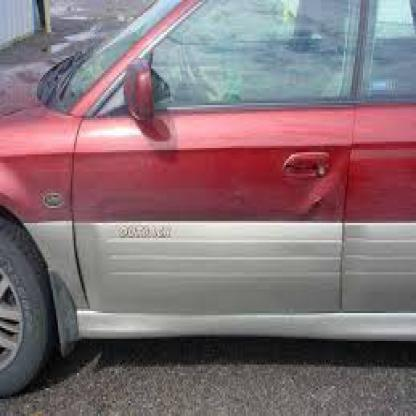dent: (296, 178, 344, 228)
